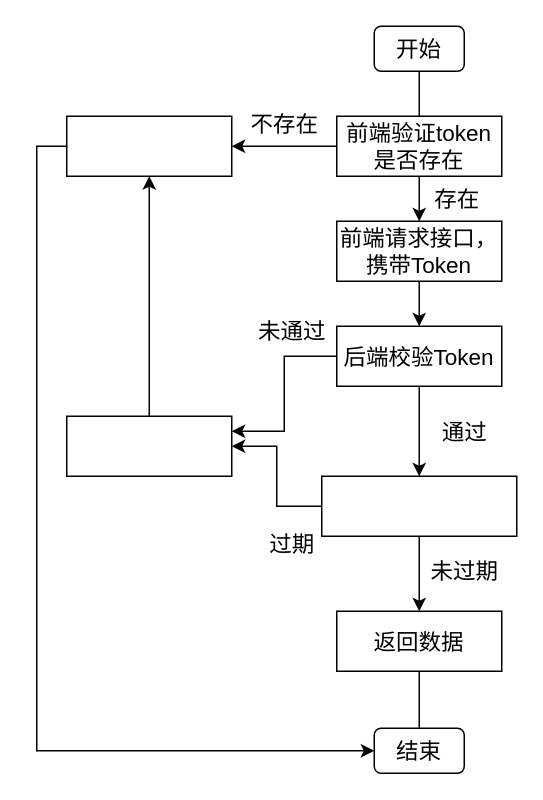
Image size: 543x800. Some labels were removed from this diagram. The centre of each missing label's shape, as x and y in pixels:
"校验Token的expiresIn是否过期" goes at point (418, 505).
"跳转到登录界面" goes at point (148, 145).
"返回前端Token无效" goes at point (148, 445).
